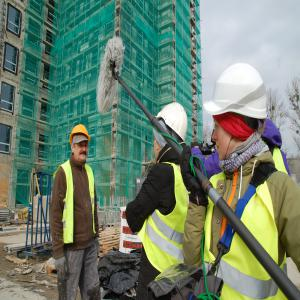white: (207, 64, 268, 161), (153, 102, 189, 154)
yellow: (70, 123, 92, 165)
